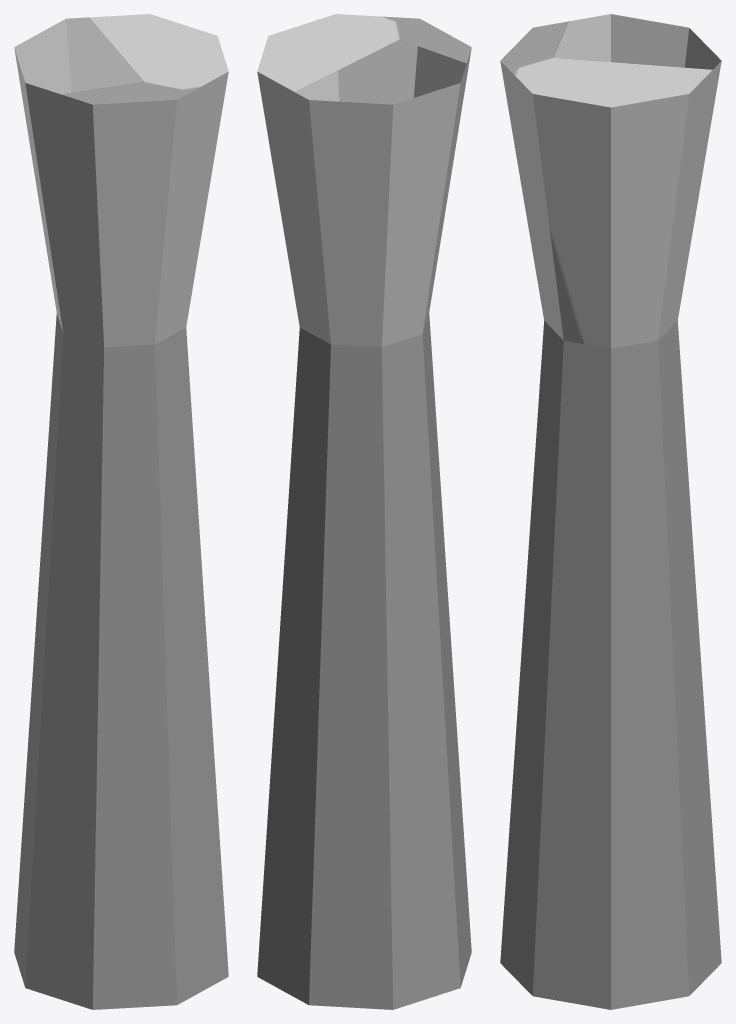
File: redMarker.fbx
3 views of the same model, side by side, from view 1: azimuth 30°, elevation 25°; view 2: azimuth 150°, elevation 25°; view 3: azimuth 270°, elevation 25° (orthographic).
Parts seen in each view (by area): view 1: RedMarker; view 2: RedMarker; view 3: RedMarker.
Boxes of the visible parts, box(x1,y1,x2,y2) form: RedMarker: box(14, 14, 228, 1009); RedMarker: box(257, 14, 471, 1009); RedMarker: box(500, 14, 721, 1009).
Size of the model in its own units: 8.47 by 38.08 by 8.47.
